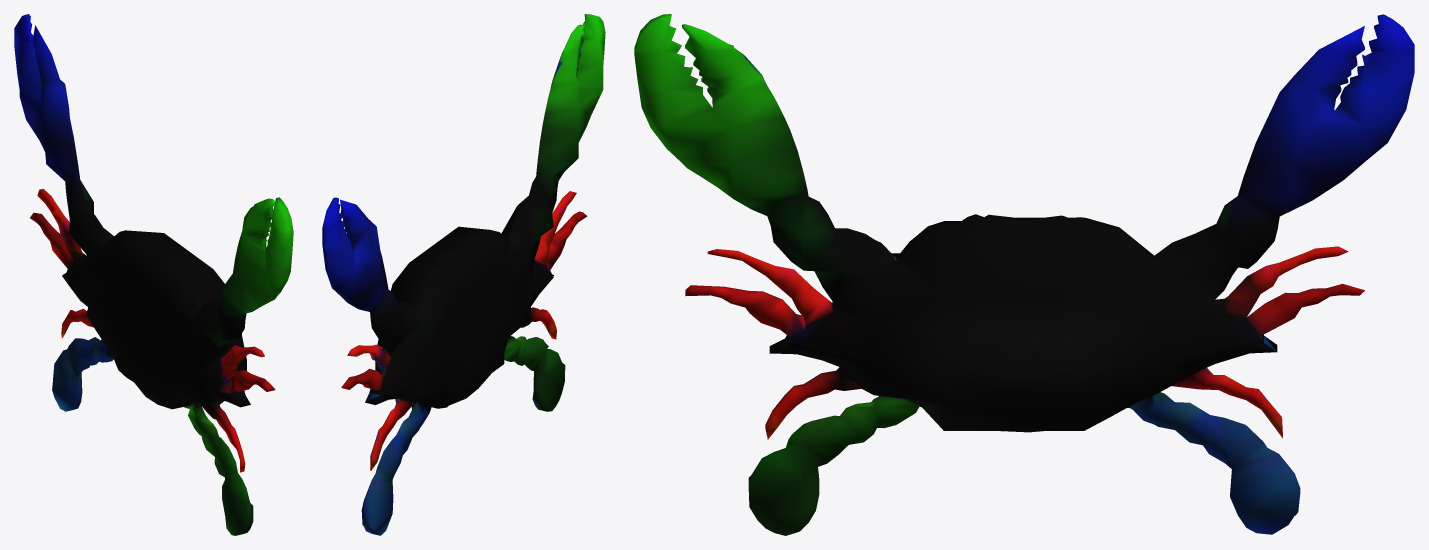
Rendered from crab16.fbx.
3 renders of one model, left to right at view 1: azimuth 30°, elevation 25°; view 2: azimuth 150°, elevation 25°; view 3: azimuth 270°, elevation 25°, orthographic. The views are drawn at different scales.
Parts seen in each view (by area): view 1: 8b5fcca9-0bd1-453d-b090-de07f664e9b1; view 2: 8b5fcca9-0bd1-453d-b090-de07f664e9b1; view 3: 8b5fcca9-0bd1-453d-b090-de07f664e9b1.
Part boxes in pixels (left/top/right/bottom): 8b5fcca9-0bd1-453d-b090-de07f664e9b1: left=14, top=14, right=293, bottom=535; 8b5fcca9-0bd1-453d-b090-de07f664e9b1: left=322, top=14, right=605, bottom=535; 8b5fcca9-0bd1-453d-b090-de07f664e9b1: left=634, top=14, right=1414, bottom=535.
Bounding box in the file's own units: 0.1719 × 0.9065 × 1.24.
